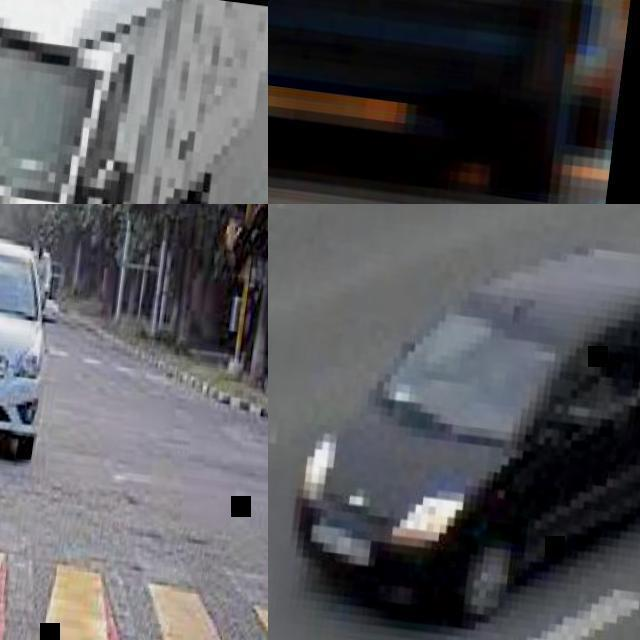car: (290, 263, 639, 624)
